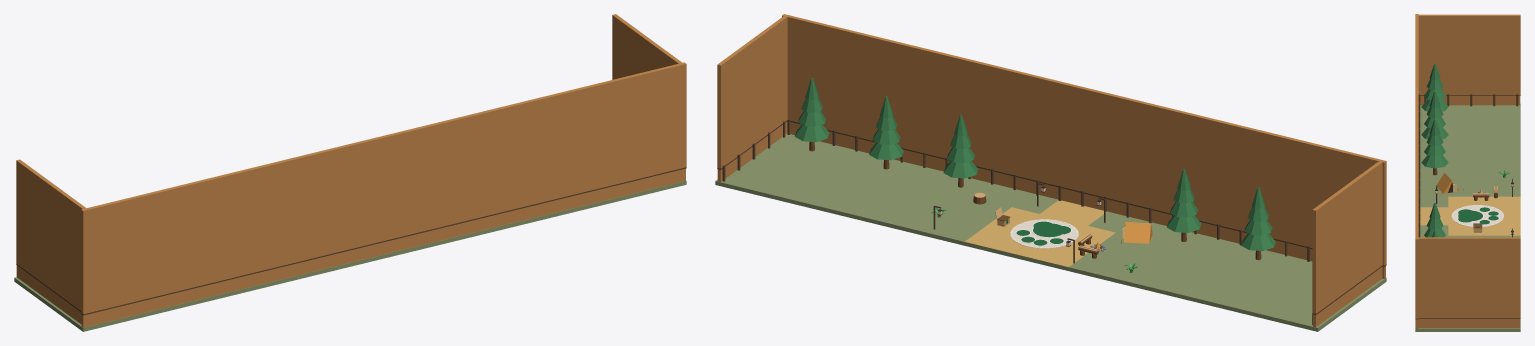
The model's file is CatCafe_Camp_WoodsF85.glb.
The picture shows the model from 3 angles, left to right: view 1: azimuth 30°, elevation 25°; view 2: azimuth 150°, elevation 25°; view 3: azimuth 270°, elevation 25°; orthographic projection. The views are drawn at different scales.
Visible parts, largest first — view 1: CatCafe_Camp_WoodsF85_Barrier, CatCafe_Camp_WoodsF85; view 2: CatCafe_Camp_WoodsF85_Barrier, CatCafe_Camp_WoodsF85, CatCafe_Camp_WoodsF85_013_PineTall, CatCafe_Camp_WoodsF85_007_PineTall, CatCafe_Camp_WoodsF85_008_PineTall, CatCafe_Camp_WoodsF85_012_PineTall, CatCafe_Camp_WoodsF85_014_PineTall, CatCafe_Camp_WoodsF85_001_Tent; view 3: CatCafe_Camp_WoodsF85_Barrier, CatCafe_Camp_WoodsF85, CatCafe_Camp_WoodsF85_007_PineTall, CatCafe_Camp_WoodsF85_008_PineTall, CatCafe_Camp_WoodsF85_009_PineTall, CatCafe_Camp_WoodsF85_012_PineTall, CatCafe_Camp_WoodsF85_001_Tent, CatCafe_Camp_WoodsF85_004_LogBench, CatCafe_Camp_WoodsF85_000_Basket.
Part boxes in pixels (x1=…): CatCafe_Camp_WoodsF85_Barrier: x1=16, y1=14, x2=686, y2=314; CatCafe_Camp_WoodsF85: x1=14, y1=167, x2=686, y2=331; CatCafe_Camp_WoodsF85_Barrier: x1=717, y1=14, x2=1386, y2=313; CatCafe_Camp_WoodsF85: x1=715, y1=119, x2=1386, y2=331; CatCafe_Camp_WoodsF85_013_PineTall: x1=869, y1=96, x2=903, y2=169; CatCafe_Camp_WoodsF85_007_PineTall: x1=1166, y1=169, x2=1201, y2=241; CatCafe_Camp_WoodsF85_008_PineTall: x1=1241, y1=187, x2=1275, y2=260; CatCafe_Camp_WoodsF85_012_PineTall: x1=943, y1=114, x2=978, y2=187; CatCafe_Camp_WoodsF85_014_PineTall: x1=794, y1=78, x2=829, y2=151; CatCafe_Camp_WoodsF85_001_Tent: x1=1121, y1=222, x2=1152, y2=243; CatCafe_Camp_WoodsF85_Barrier: x1=1415, y1=14, x2=1520, y2=318; CatCafe_Camp_WoodsF85: x1=1415, y1=94, x2=1520, y2=331; CatCafe_Camp_WoodsF85_007_PineTall: x1=1421, y1=119, x2=1448, y2=175; CatCafe_Camp_WoodsF85_008_PineTall: x1=1421, y1=91, x2=1448, y2=139; CatCafe_Camp_WoodsF85_009_PineTall: x1=1421, y1=63, x2=1448, y2=111; CatCafe_Camp_WoodsF85_012_PineTall: x1=1424, y1=203, x2=1445, y2=237; CatCafe_Camp_WoodsF85_001_Tent: x1=1436, y1=173, x2=1463, y2=194; CatCafe_Camp_WoodsF85_004_LogBench: x1=1473, y1=193, x2=1489, y2=200; CatCafe_Camp_WoodsF85_000_Basket: x1=1473, y1=223, x2=1482, y2=232.
Size of the model in its own units: 162 by 31 by 32.
1 material, 1 textured.
